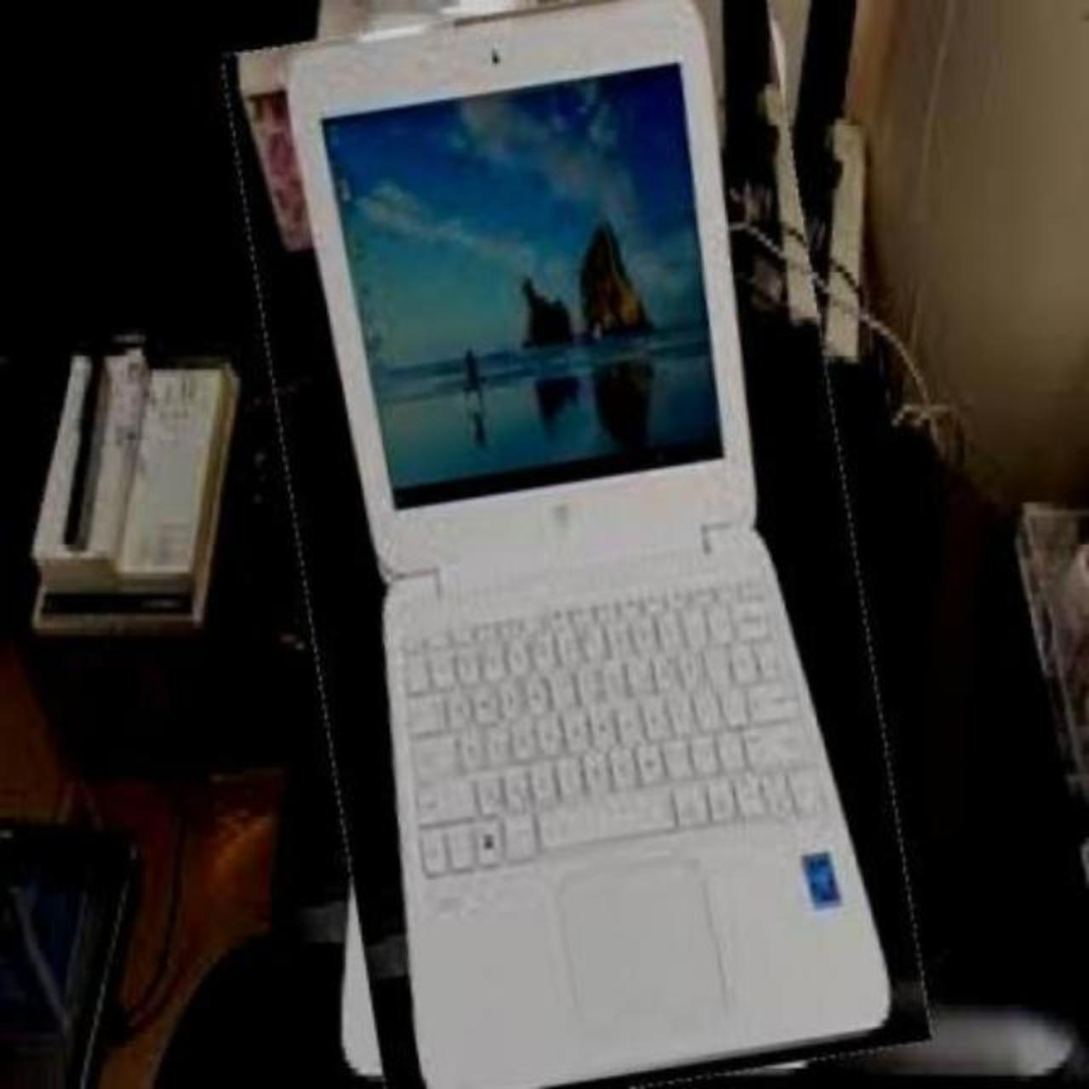laptop: (263, 0, 891, 1089)
